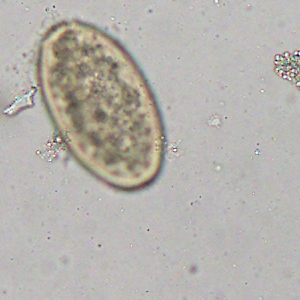Fasciola_hepatica_egg: (34, 17, 166, 193)
